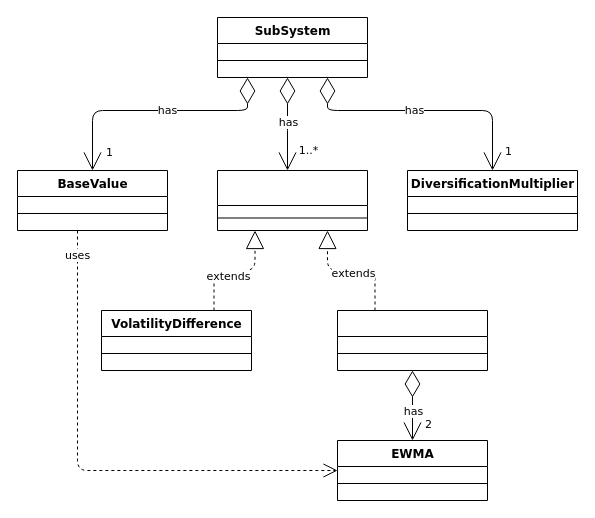
This 595x518 diagram has some shape labels left out. The centre of each missing label's shape, as x and y in pixels:
<<Abstract>> Rule: pixel 292 200
EWMAC: pixel 412 340
